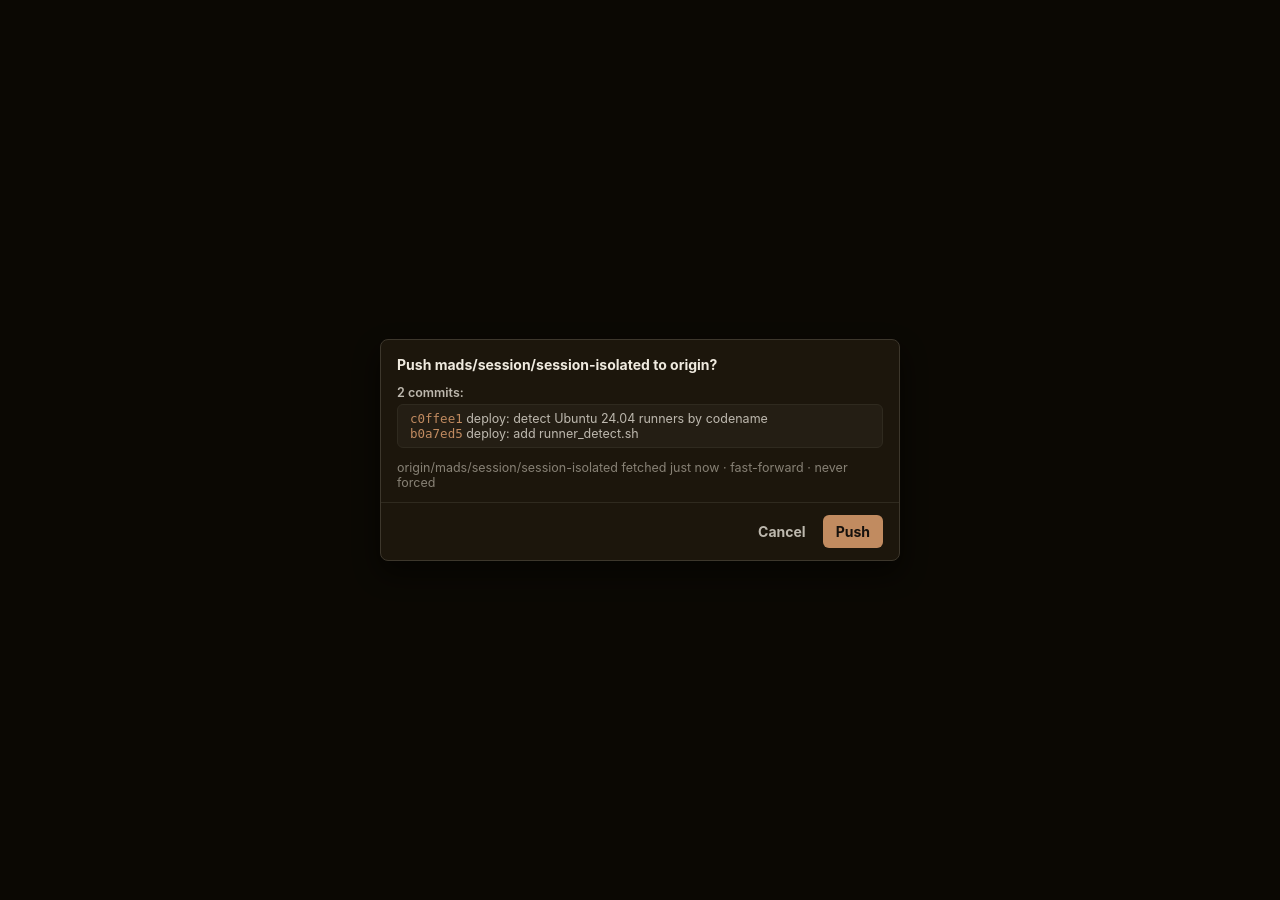
Scenario: PushDialog (D5, mockup §3) › shows git's own words when git push says no, and stays open
The width and height of the screenshot is (1280, 900).
What coordinates should you click on to do the following:
click the button "Push"
I would click on:
 (853, 532)
Its box is 823,515 -> 883,548.
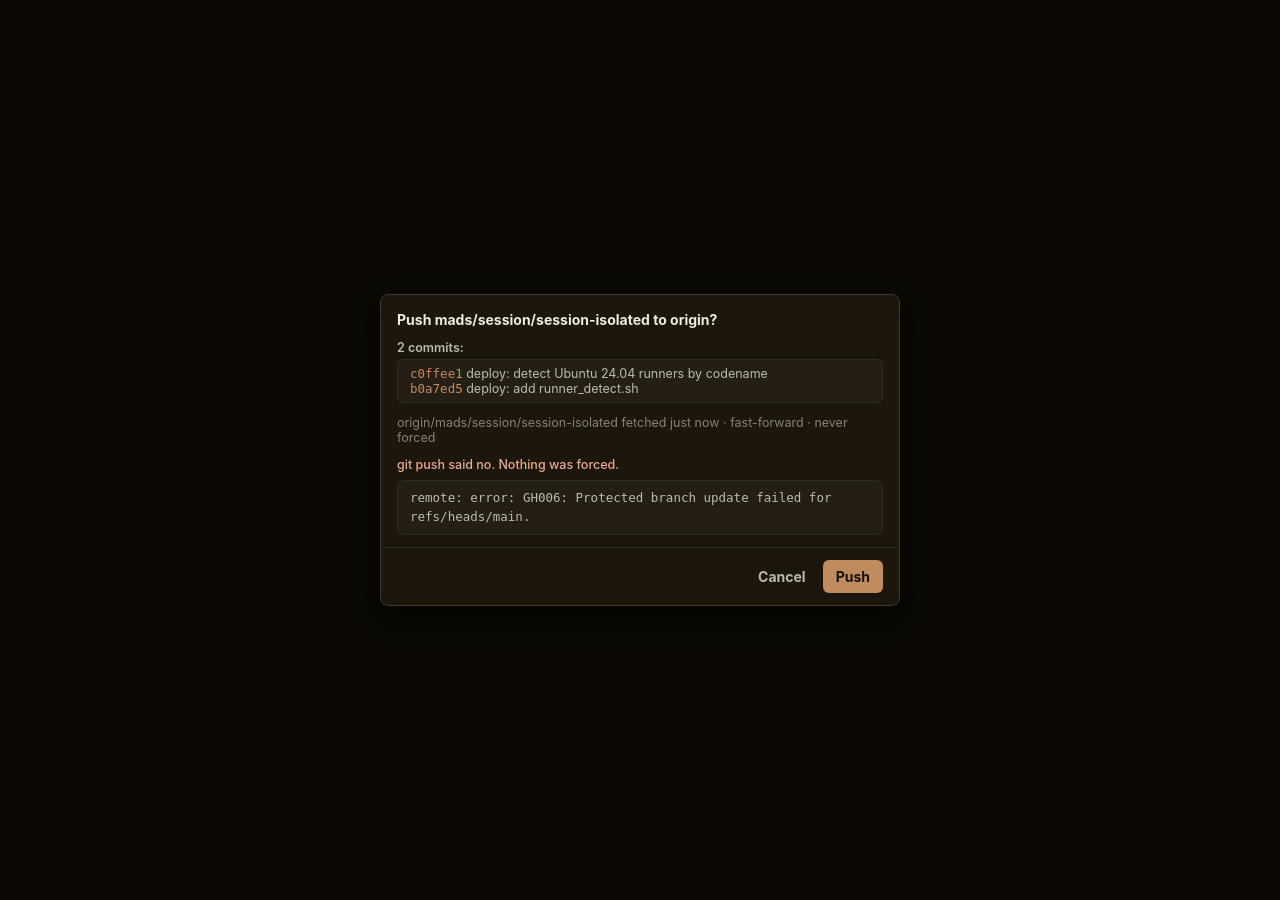
Now the text "git push said no. Nothing was forced." is shown, box 397,457 -> 619,472
